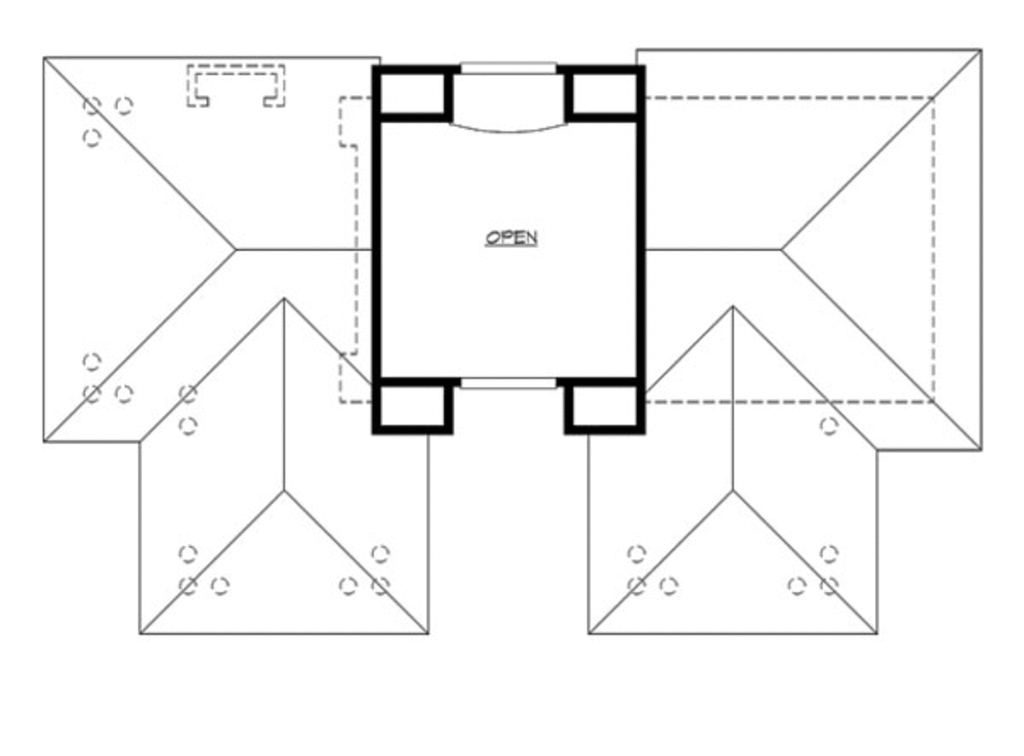there is an open area on upper floor: (374, 62, 639, 431)
